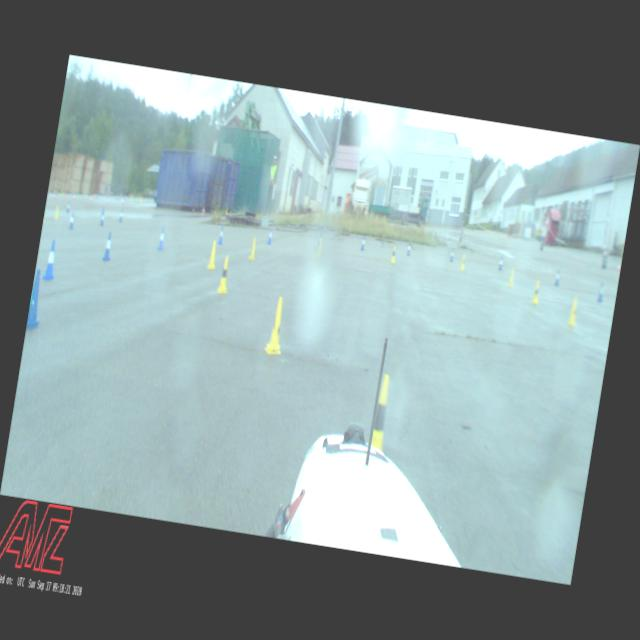blue_cone: (26, 270, 47, 330), (42, 240, 59, 281), (102, 232, 114, 261), (157, 227, 167, 250), (596, 282, 606, 302), (68, 212, 76, 230), (554, 269, 562, 286), (218, 226, 225, 243), (99, 208, 106, 225), (498, 256, 505, 271), (267, 228, 273, 244), (450, 248, 456, 262), (361, 235, 366, 251), (406, 242, 412, 255), (118, 210, 124, 222), (66, 201, 71, 212)
orange_cone: (617, 262, 621, 273), (88, 194, 92, 202), (202, 208, 206, 215), (54, 192, 57, 201), (52, 191, 55, 200), (90, 195, 93, 203), (73, 194, 76, 202), (122, 198, 125, 205), (105, 197, 108, 204), (93, 192, 96, 199), (72, 193, 74, 201)
yellow_cone: (371, 374, 394, 452), (264, 296, 290, 355), (216, 254, 234, 294), (207, 240, 220, 270), (568, 297, 580, 327), (248, 236, 258, 260), (532, 281, 542, 304), (508, 268, 516, 288), (316, 238, 323, 258), (460, 254, 468, 271), (390, 245, 397, 262), (54, 207, 60, 220)
